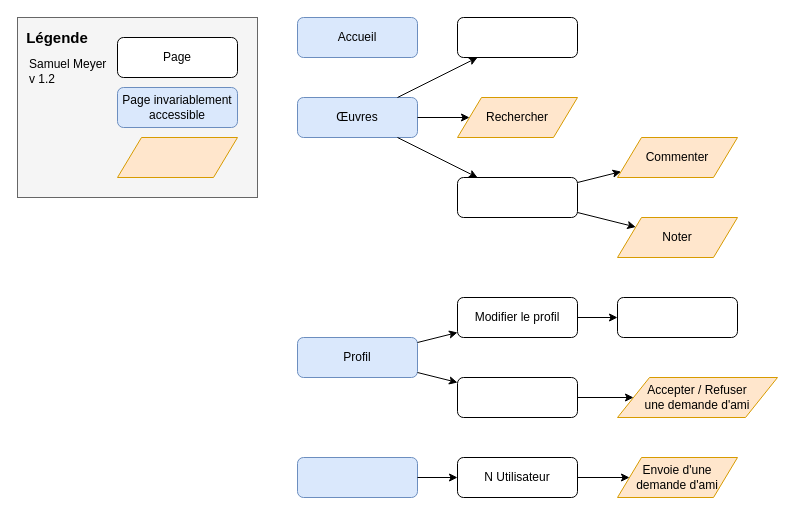
Image size: 795x515. Some labels were removed from this diagram. Each missing label, with the box of its shape:
Amis: (456, 376, 578, 418)
Article "N": (456, 176, 578, 218)
Créer un article: (616, 296, 738, 338)
Fonctionnalité: (116, 136, 238, 178)
Users: (296, 456, 418, 498)
Œuvre "N": (456, 16, 578, 58)
